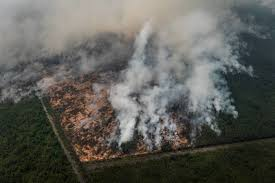smoke: (111, 48, 227, 146), (14, 4, 177, 47), (191, 5, 270, 56)
